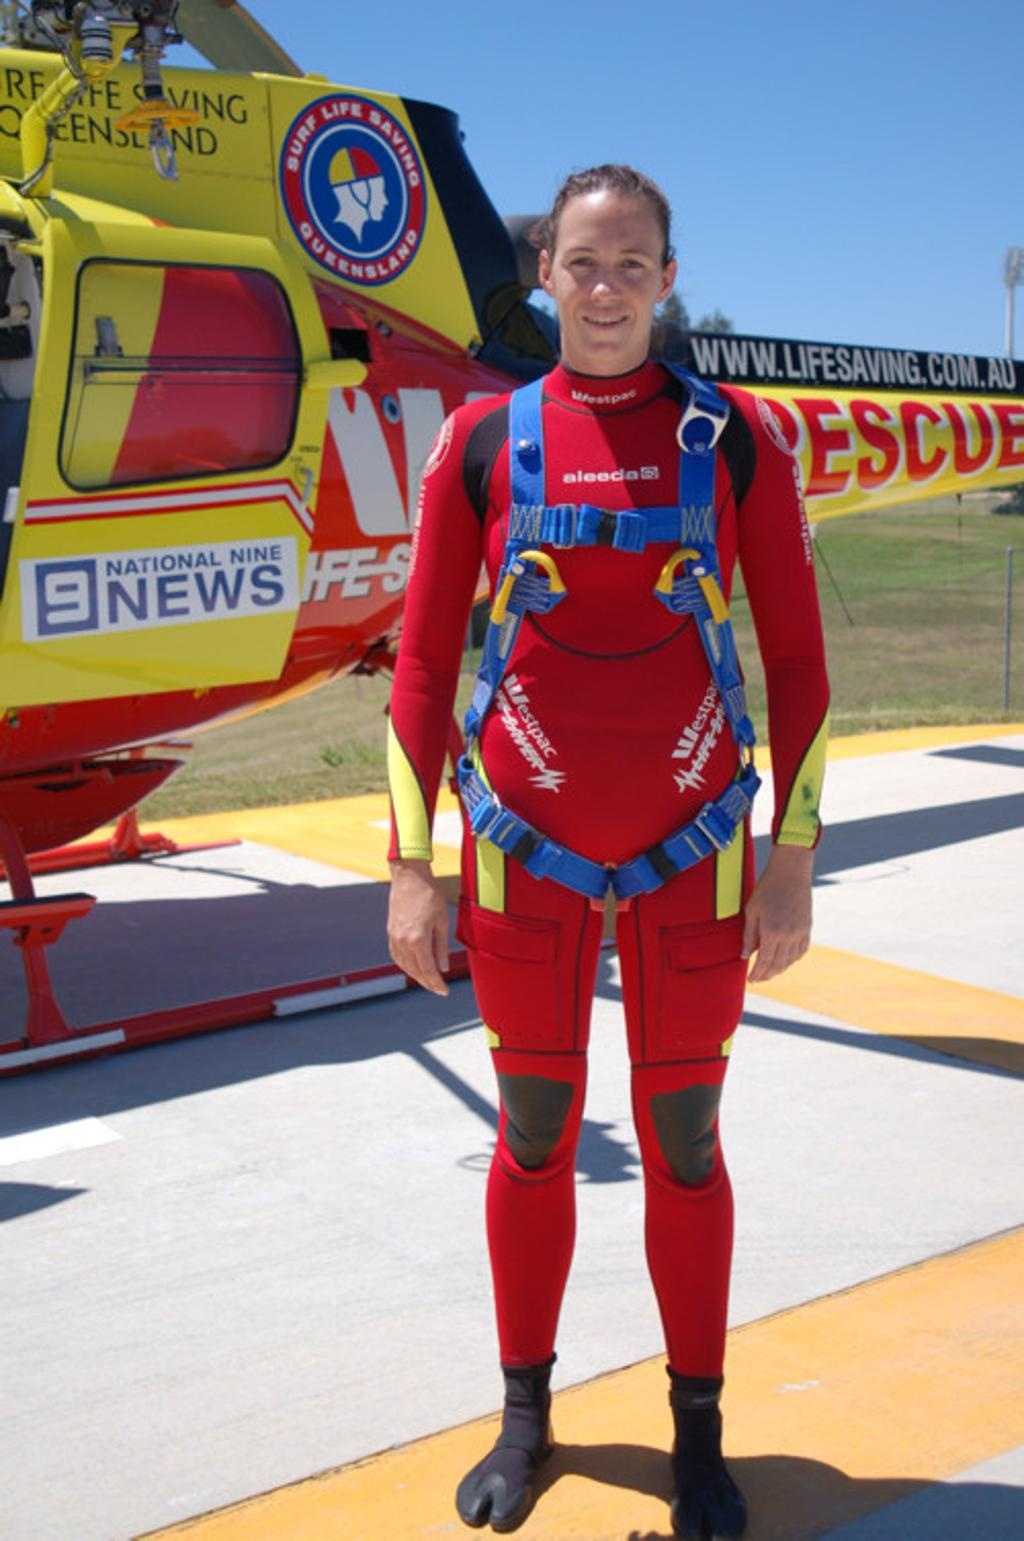face: (554, 196, 668, 356)
